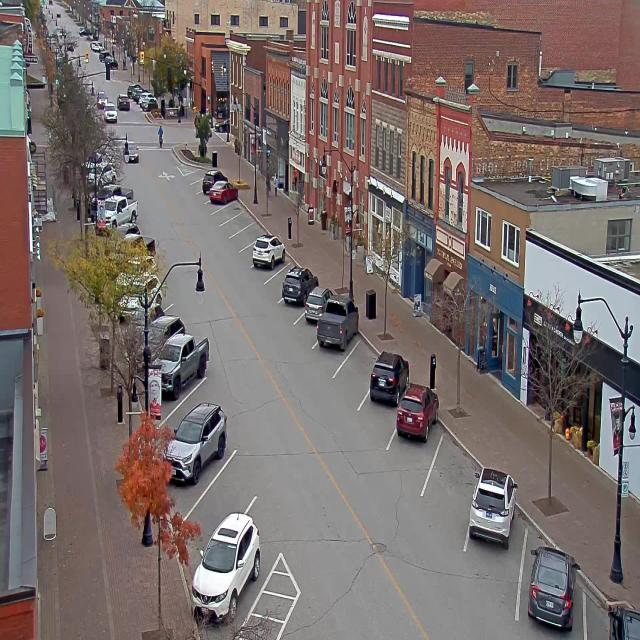available: (197, 438, 266, 523), (429, 424, 482, 513), (170, 366, 222, 412), (341, 330, 380, 390), (264, 264, 290, 300), (236, 239, 257, 269), (238, 217, 261, 243), (234, 209, 252, 231), (226, 198, 244, 220), (186, 167, 206, 181), (190, 178, 202, 195)
occupied: (192, 511, 261, 624), (164, 400, 227, 484), (527, 544, 579, 630), (468, 466, 518, 547), (150, 332, 210, 399), (392, 383, 441, 452), (587, 588, 639, 639), (316, 296, 358, 352), (368, 350, 409, 406), (282, 264, 318, 305), (252, 232, 285, 269), (305, 280, 331, 324), (209, 179, 238, 204), (201, 168, 224, 189)
